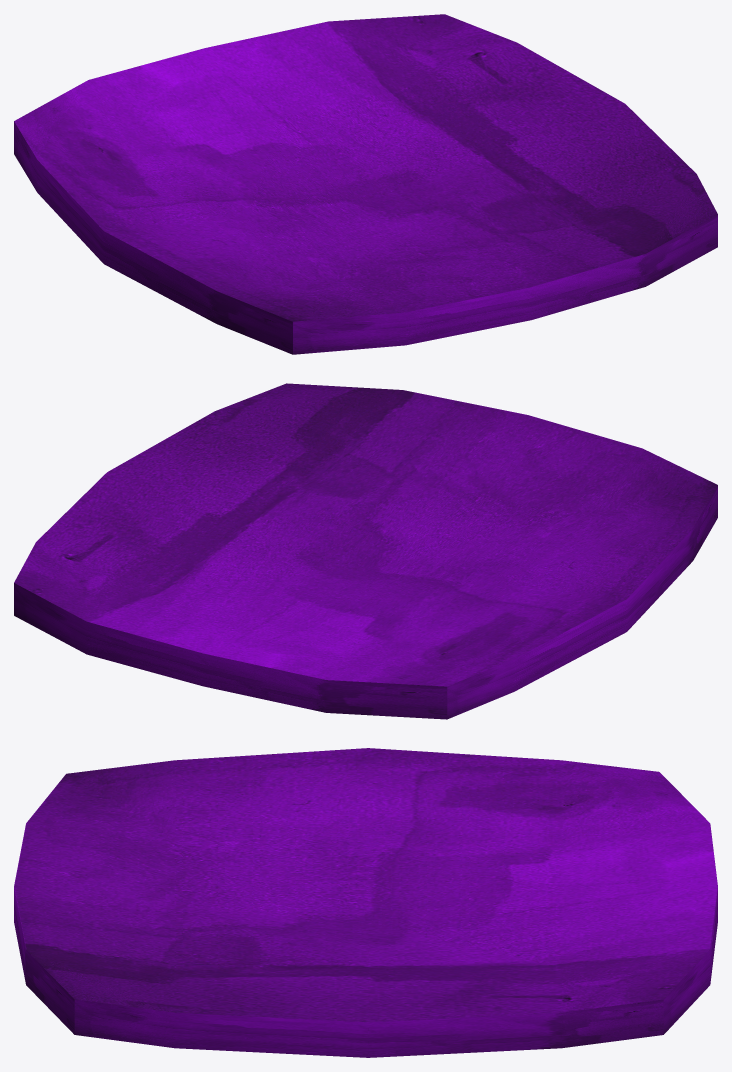
The model's file is paars platform.FBX.
The picture shows the model from 3 angles, top to bottom: view 1: azimuth 30°, elevation 25°; view 2: azimuth 150°, elevation 25°; view 3: azimuth 270°, elevation 25°; orthographic projection. The views are drawn at different scales.
Parts seen in each view (by area): view 1: paars platform; view 2: paars platform; view 3: paars platform.
Part boxes in pixels (x1,y1,x2,y2): paars platform: (14, 14, 717, 354); paars platform: (14, 383, 717, 719); paars platform: (14, 748, 717, 1057).
Bounding box in the file's own units: 306 × 37.96 × 332.
